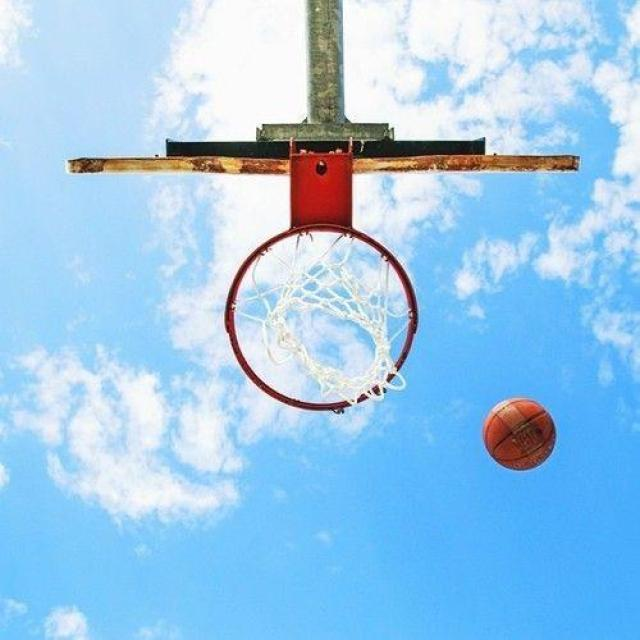hoop: (242, 216, 408, 428)
